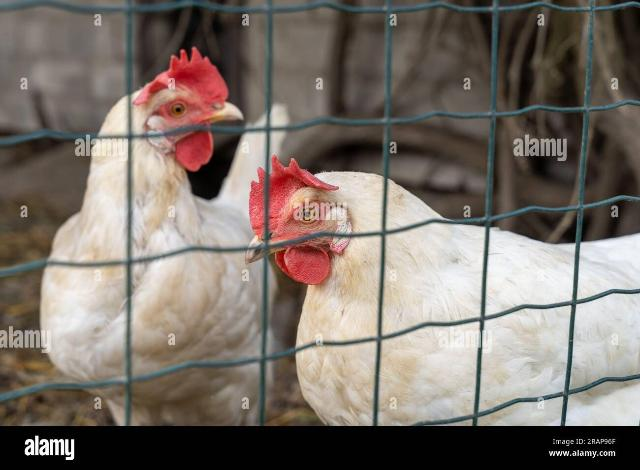Chicken: (246, 156, 640, 425), (39, 45, 289, 426)
